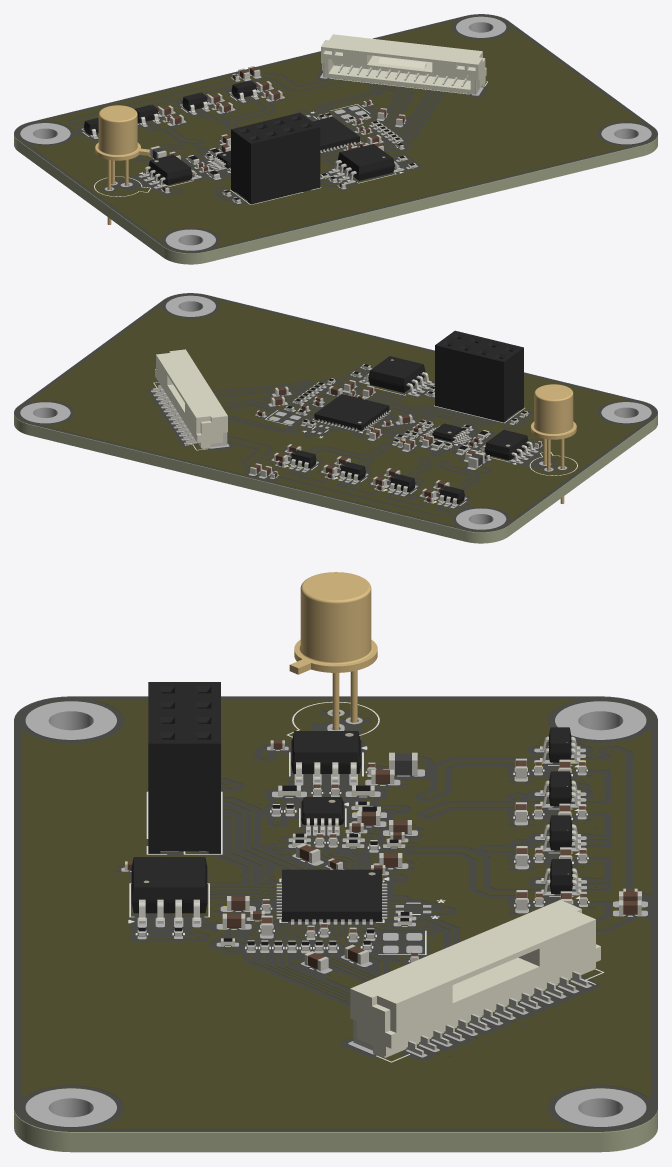
3 renders of one model, top to bottom at view 1: azimuth 30°, elevation 25°; view 2: azimuth 150°, elevation 25°; view 3: azimuth 270°, elevation 25°, orthographic. The views are drawn at different scales.
Visible parts, largest first — view 1: phy-a-a_soldermask, phy-a-a_copper, phy-a-a_PCB, J2, J1, phy-a-a_pad, D1, U7, U1, U4, phy-a-a_silkscreen, U5 (+1 smaller); view 2: phy-a-a_soldermask, phy-a-a_copper, phy-a-a_PCB, J1, phy-a-a_pad, J2, D1, U4, U7, U1, phy-a-a_silkscreen, U2 (+4 smaller); view 3: phy-a-a_soldermask, phy-a-a_copper, phy-a-a_PCB, J2, phy-a-a_pad, J1, D1, U4, U7, U1, phy-a-a_silkscreen, U2 (+4 smaller).
Part boxes in pixels (x1=…): phy-a-a_soldermask: x1=14, y1=14, x2=657, y2=253; phy-a-a_copper: x1=30, y1=21, x2=641, y2=246; phy-a-a_PCB: x1=14, y1=15, x2=657, y2=264; J2: x1=321, y1=34, x2=486, y2=94; J1: x1=231, y1=112, x2=320, y2=204; phy-a-a_pad: x1=20, y1=16, x2=651, y2=250; D1: x1=95, y1=105, x2=150, y2=224; U7: x1=331, y1=144, x2=401, y2=183; U1: x1=141, y1=154, x2=198, y2=187; U4: x1=312, y1=116, x2=359, y2=151; phy-a-a_silkscreen: x1=82, y1=75, x2=487, y2=204; U5: x1=181, y1=92, x2=208, y2=113; phy-a-a_soldermask: x1=14, y1=293, x2=657, y2=532; phy-a-a_copper: x1=30, y1=300, x2=641, y2=525; phy-a-a_PCB: x1=14, y1=294, x2=657, y2=543; J1: x1=435, y1=330, x2=523, y2=422; phy-a-a_pad: x1=20, y1=295, x2=651, y2=529; J2: x1=152, y1=349, x2=227, y2=448; D1: x1=531, y1=384, x2=576, y2=503; U4: x1=314, y1=394, x2=389, y2=430; U7: x1=362, y1=356, x2=431, y2=395; U1: x1=478, y1=430, x2=535, y2=462; phy-a-a_silkscreen: x1=153, y1=368, x2=577, y2=505; U2: x1=426, y1=423, x2=468, y2=443; phy-a-a_soldermask: x1=14, y1=696, x2=657, y2=1131; phy-a-a_copper: x1=21, y1=700, x2=650, y2=1128; phy-a-a_PCB: x1=14, y1=697, x2=657, y2=1152; J2: x1=350, y1=900, x2=600, y2=1058; phy-a-a_pad: x1=25, y1=701, x2=647, y2=1126; J1: x1=148, y1=682, x2=220, y2=853; D1: x1=289, y1=572, x2=377, y2=730; U4: x1=282, y1=869, x2=381, y2=921; U7: x1=131, y1=857, x2=207, y2=923; U1: x1=291, y1=731, x2=361, y2=782; phy-a-a_silkscreen: x1=128, y1=701, x2=632, y2=1062; U2: x1=301, y1=797, x2=344, y2=832.
Bounding box in the file's own units: 0.072 × 0.0153 × 0.045.
